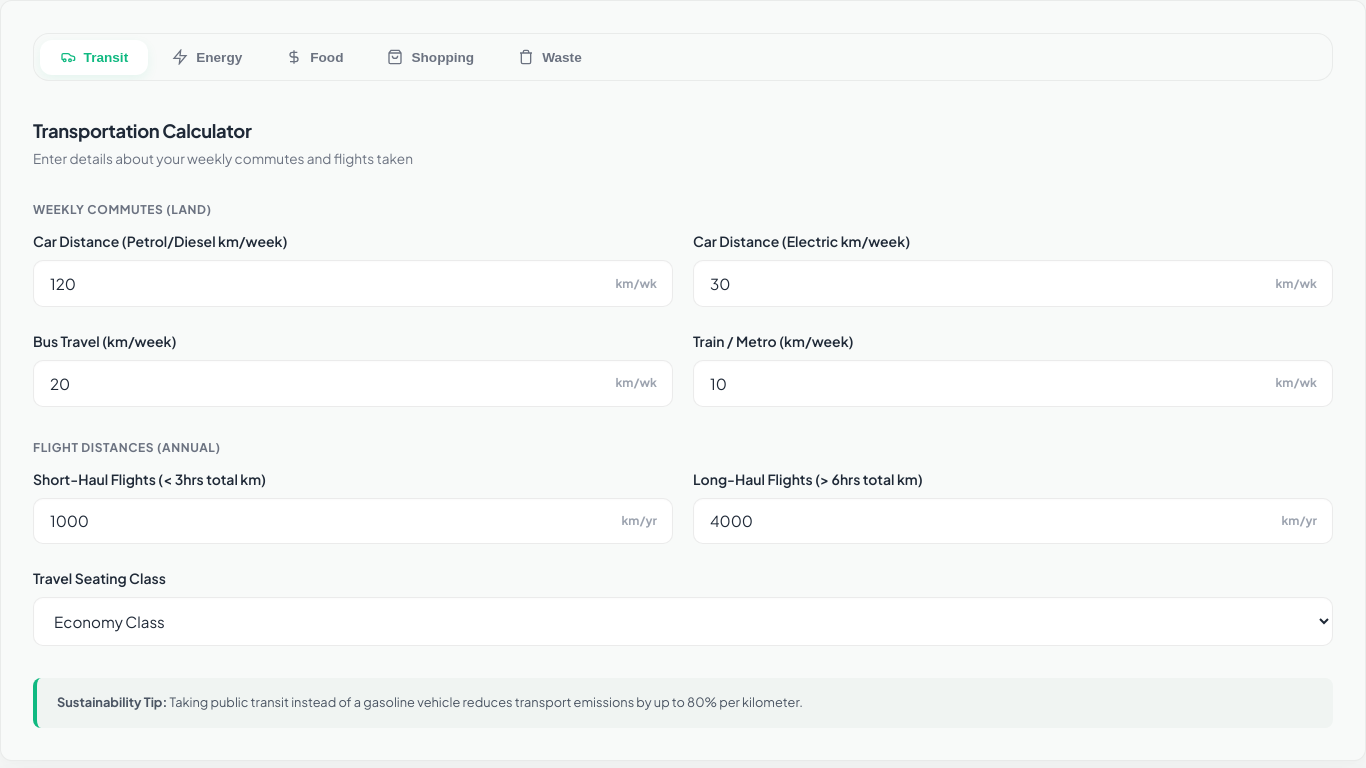
Test: Calculator component › switches to Energy tab on click
The image size is (1366, 768).
Click the button with aria-label "Switch to Energy tab" at (207, 57), box [152, 40, 262, 75]
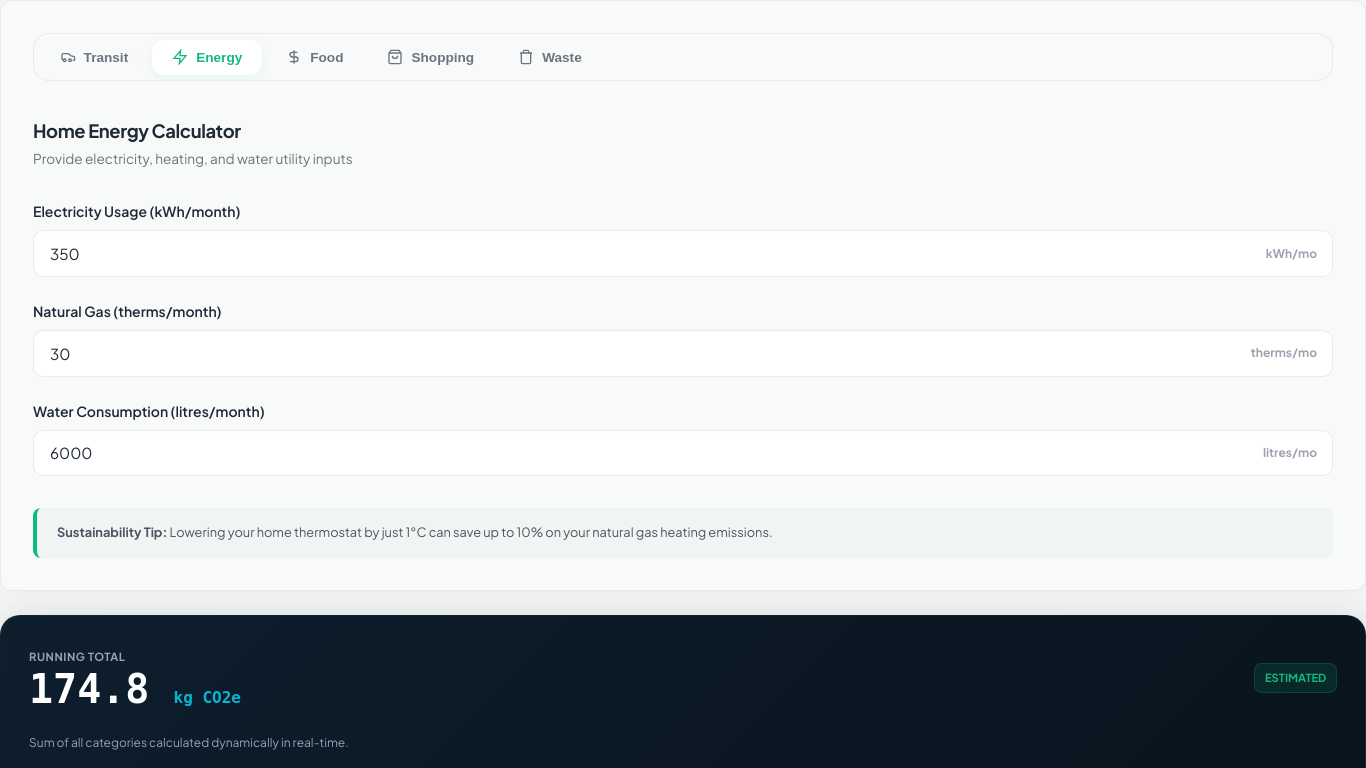
Check: the heading "Home Energy Calculator" is shown, box [33, 119, 241, 142]
